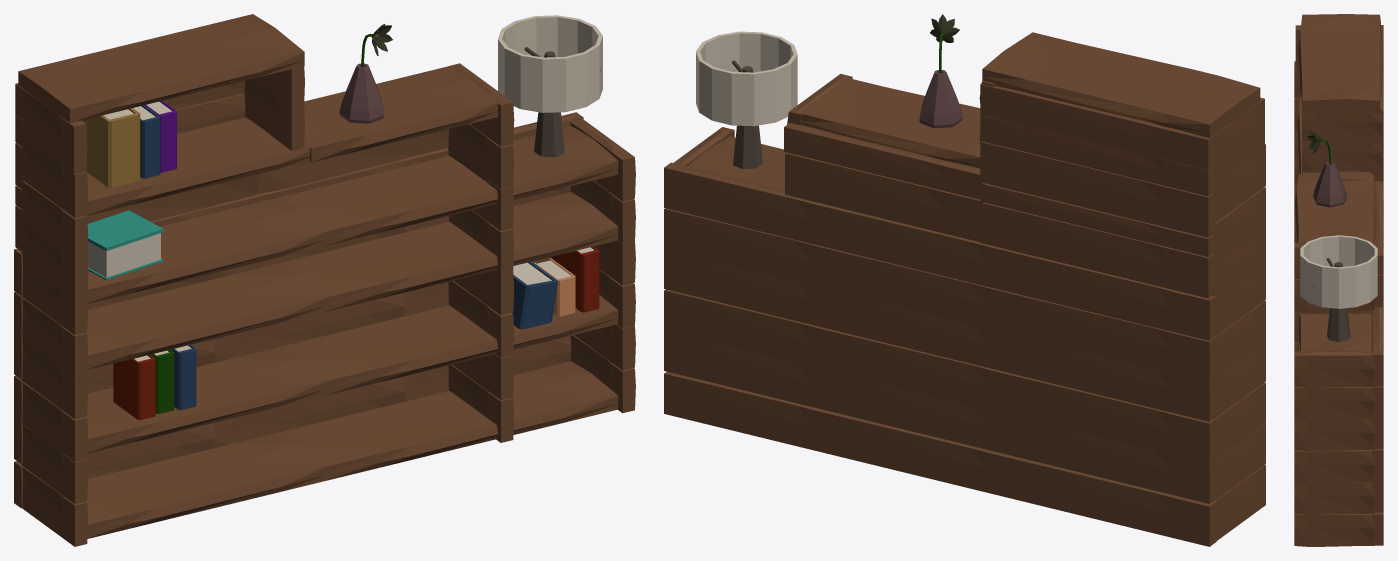
The model's file is Regal mit zeug.fbx.
The picture shows the model from 3 angles, left to right: view 1: azimuth 30°, elevation 25°; view 2: azimuth 150°, elevation 25°; view 3: azimuth 270°, elevation 25°; orthographic projection. The views are drawn at different scales.
Parts seen in each view (by area): view 1: Holzi_60, Holzi_33, Holzi_35, Holzi_37, Holzi_32, Holzi_34, Holzi_31, Holzi_36, Holzi_30, Holzi_53, Röhre, Holzi_52 (+53 smaller); view 2: Holzi_60, Holzi_44, Holzi_56, Holzi_53, Röhre, Holzi_45, Holzi_1, Holzi_17, Holzi_15, Holzi_6, Holzi_12, Holzi (+31 smaller); view 3: Holzi_60, Röhre, Holzi_53, Holzi_29, Holzi_26, Holzi_24, Holzi_28, Holzi_25, Holzi_27, Holzi_37, Holzi_59, Holzi_57 (+22 smaller).
Boxes of the visible parts, box(x1,y1,x2,y2) form: Holzi_60: box(18, 14, 304, 123); Holzi_33: box(280, 361, 618, 481); Holzi_35: box(280, 192, 618, 312); Holzi_37: box(280, 126, 618, 246); Holzi_32: box(86, 432, 325, 538); Holzi_34: box(86, 263, 325, 369); Holzi_31: box(280, 295, 618, 395); Holzi_36: box(87, 197, 325, 303); Holzi_30: box(86, 347, 325, 453); Holzi_53: box(304, 66, 498, 162); Röhre: box(498, 15, 602, 112); Holzi_52: box(86, 117, 316, 215); Holzi_60: box(982, 32, 1260, 137); Holzi_44: box(980, 202, 1215, 298); Holzi_56: box(980, 141, 1215, 237); Holzi_53: box(801, 78, 980, 168); Röhre: box(696, 31, 797, 126); Holzi_45: box(785, 152, 983, 241); Holzi_1: box(1023, 460, 1216, 546); Holzi_17: box(664, 162, 851, 250); Holzi_15: box(1023, 254, 1216, 340); Holzi_6: box(1023, 377, 1216, 463); Holzi_12: box(1023, 296, 1216, 382); Holzi: box(838, 415, 1027, 501); Holzi_60: box(1298, 14, 1383, 111); Röhre: box(1300, 235, 1377, 308); Holzi_53: box(1295, 174, 1376, 243); Holzi_29: box(1294, 351, 1374, 387); Holzi_26: box(1294, 450, 1374, 483); Holzi_24: box(1294, 514, 1374, 546); Holzi_28: box(1294, 387, 1374, 419); Holzi_25: box(1294, 482, 1374, 514); Holzi_27: box(1294, 419, 1374, 450); Holzi_37: box(1298, 313, 1372, 351); Holzi_59: box(1302, 105, 1382, 141); Holzi_57: box(1302, 139, 1382, 172).
Size of the model in its own units: 605 by 450 by 110.
